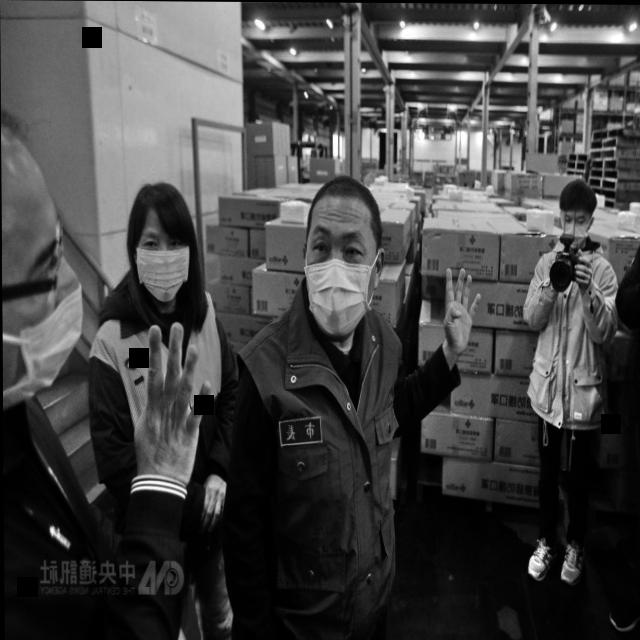Mask: (1, 113, 88, 420), (302, 172, 392, 346), (127, 176, 202, 309), (554, 175, 601, 253)
